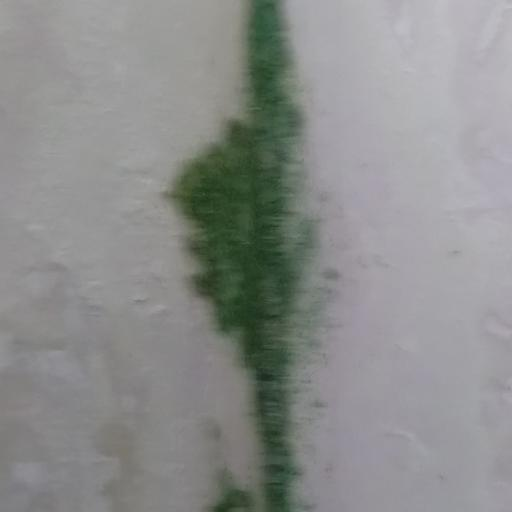algae: (147, 0, 363, 512)
